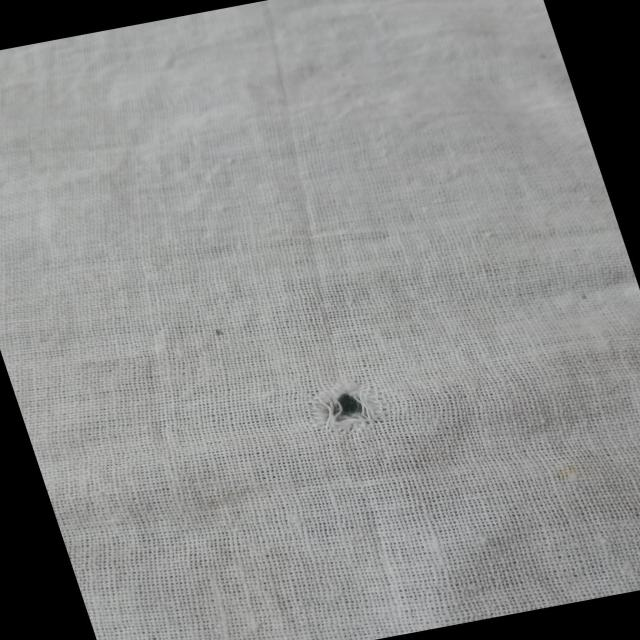cut: (308, 382, 381, 433)
